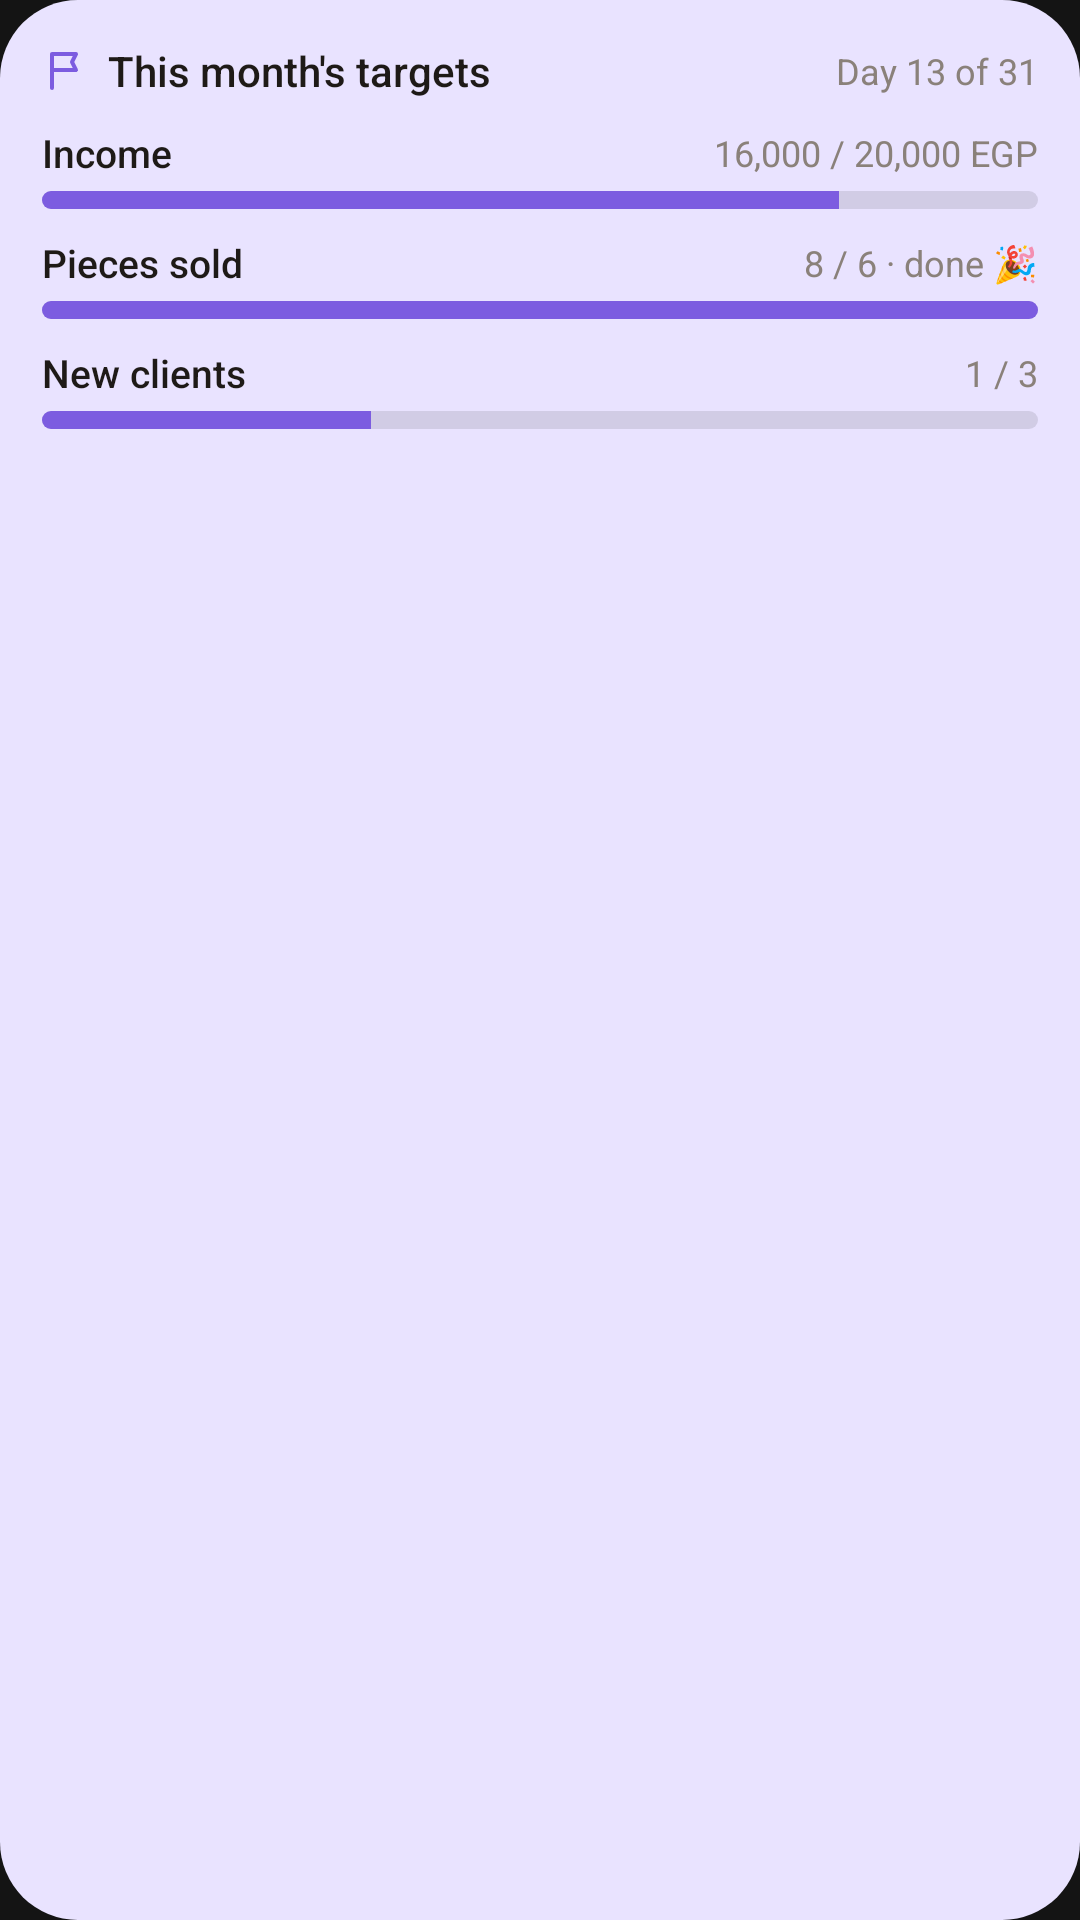

Where icons sit on this 1080px x 1920px app screen, as (x1, y1, x2, y2):
flag: (50, 52, 78, 90)
